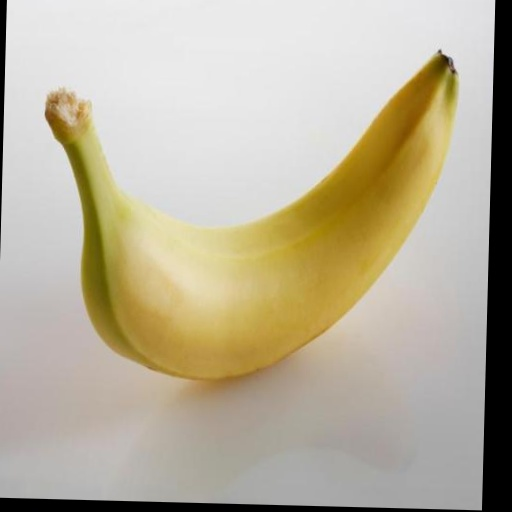fruit: (45, 53, 457, 378)
